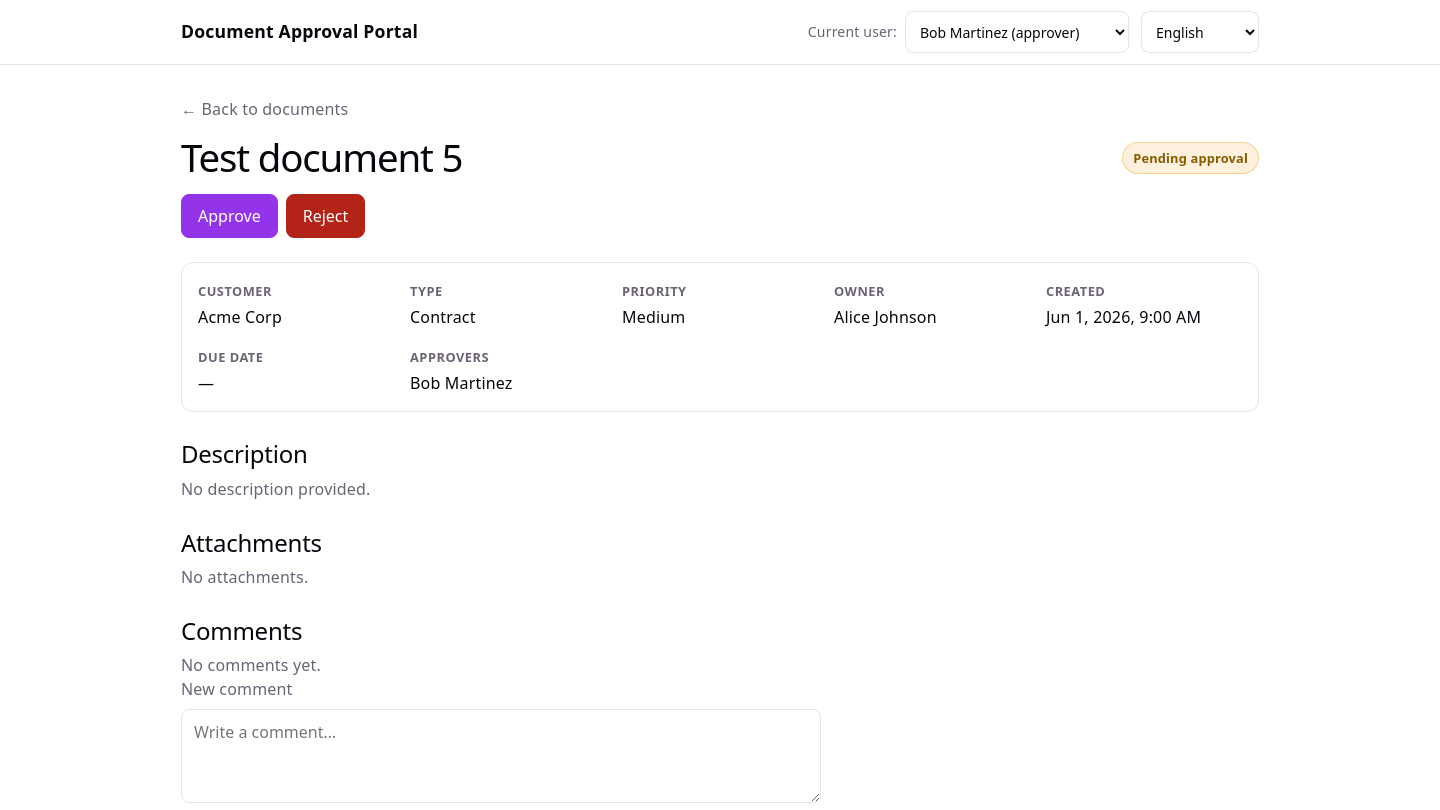
Test: rejecting a document › sends actor and reason, then shows the updated status
Step 1. Click the button "Reject" → x=326, y=216, box x1=286 y1=194 x2=365 y2=238
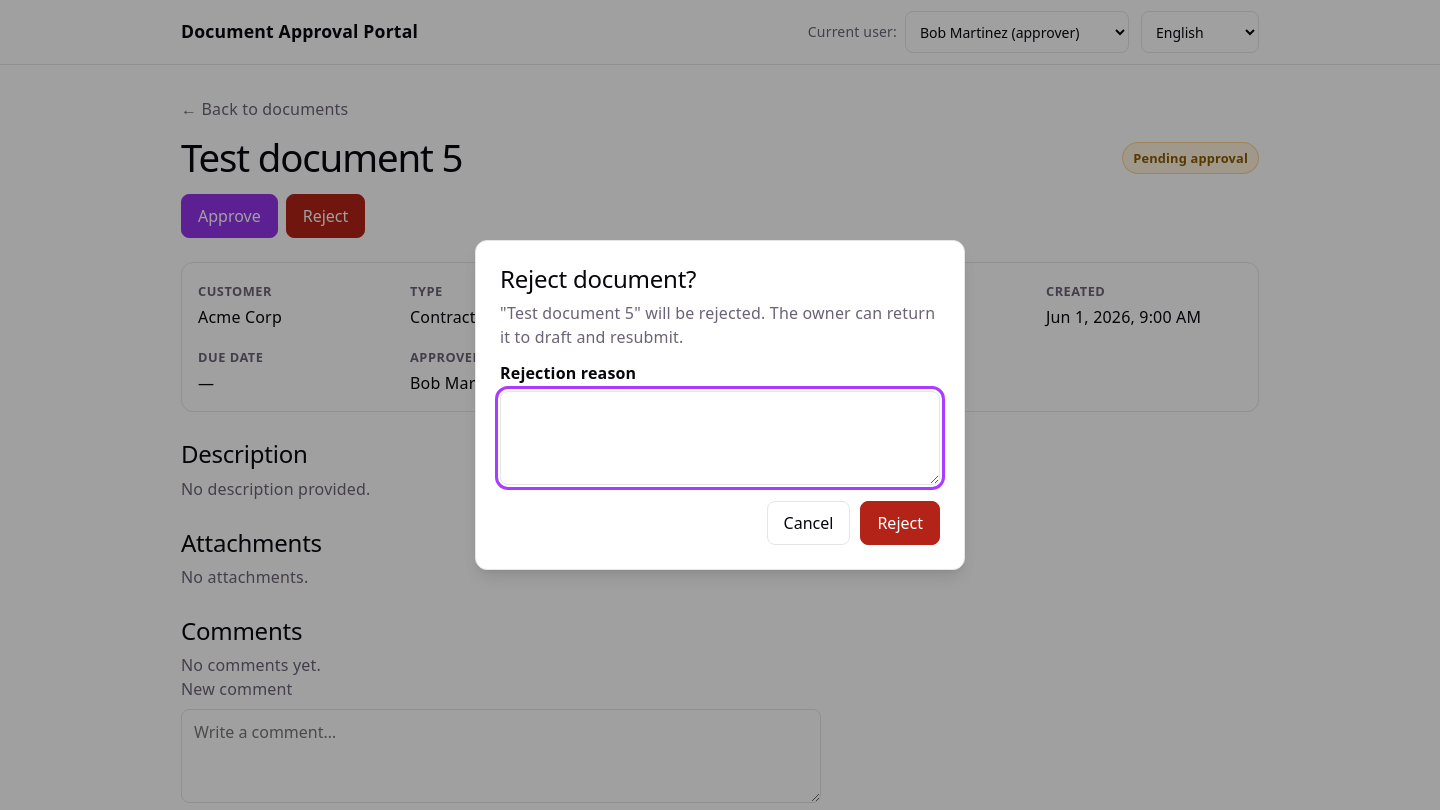
Step 2. Type "Terms conflict with the framework agreement" into the text box → x=720, y=438, box x1=500 y1=391 x2=940 y2=485
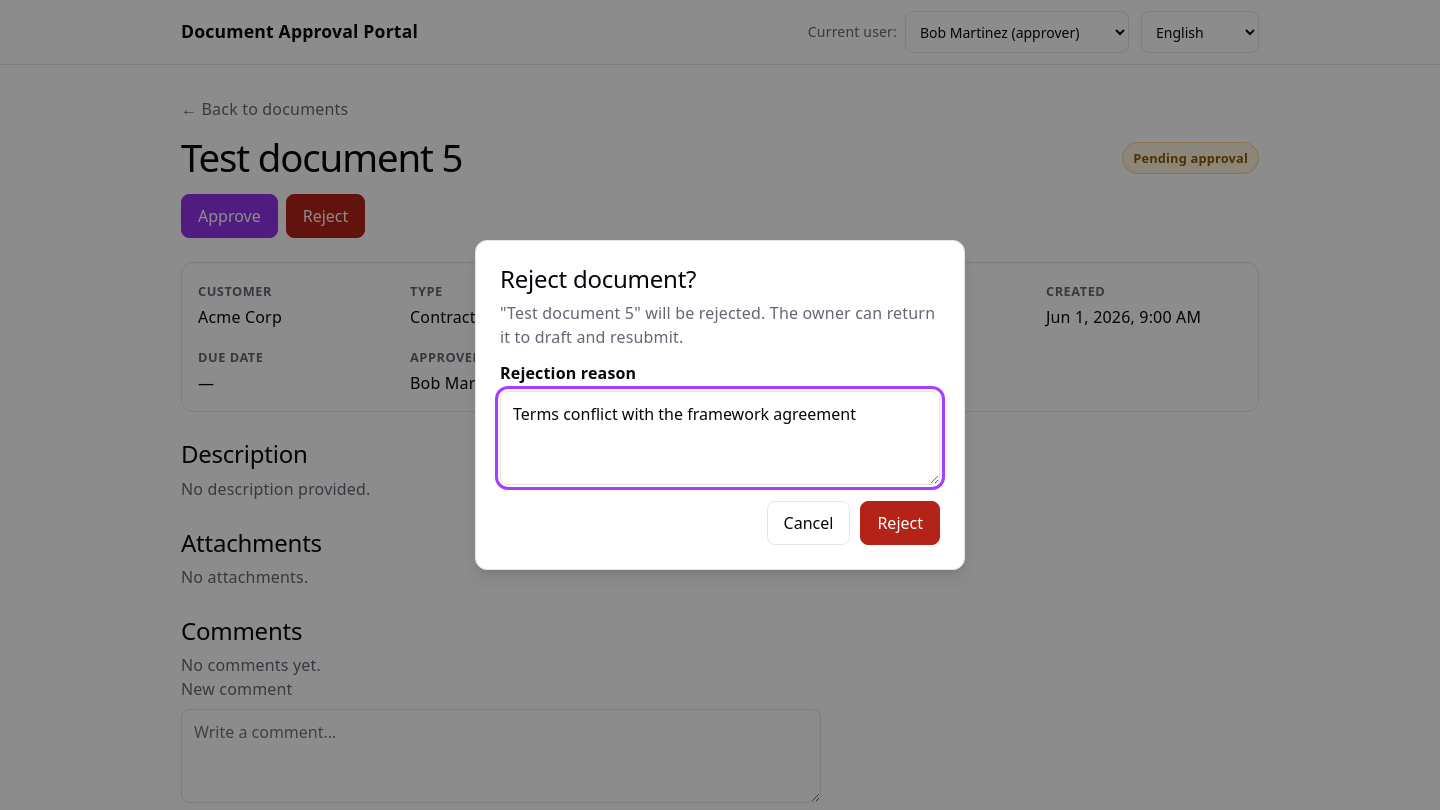
Step 3. Click the button "Reject" → x=900, y=523, box x1=860 y1=501 x2=940 y2=545
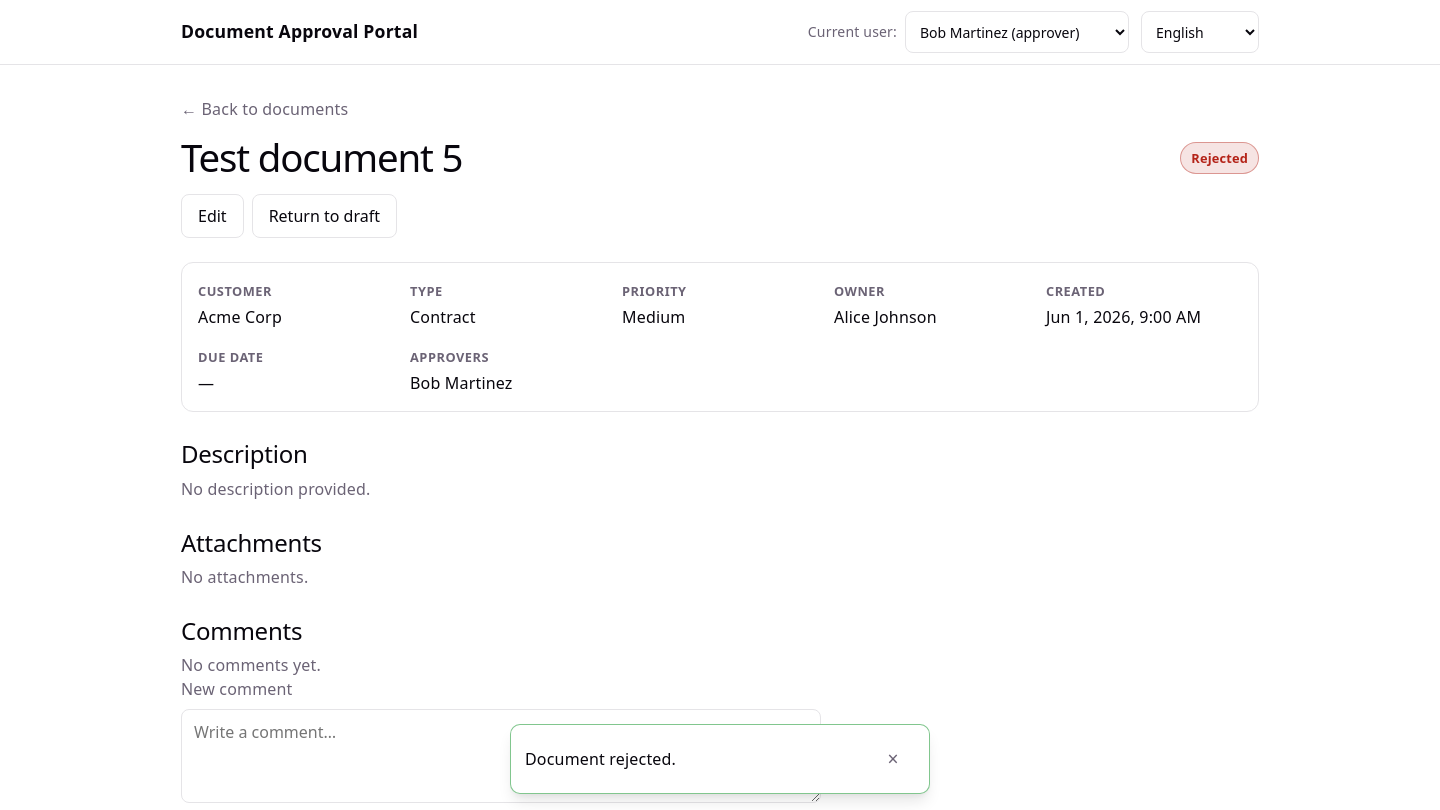
Now the text "Rejected" is shown, box x1=1180 y1=142 x2=1259 y2=174
